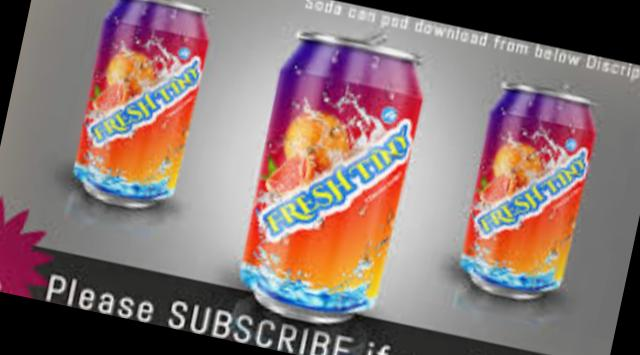metal: (238, 28, 419, 318), (459, 81, 594, 298), (73, 0, 207, 205)
